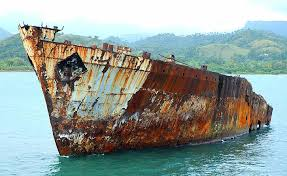rust: (59, 122, 188, 145), (152, 62, 219, 97), (228, 81, 270, 125)
